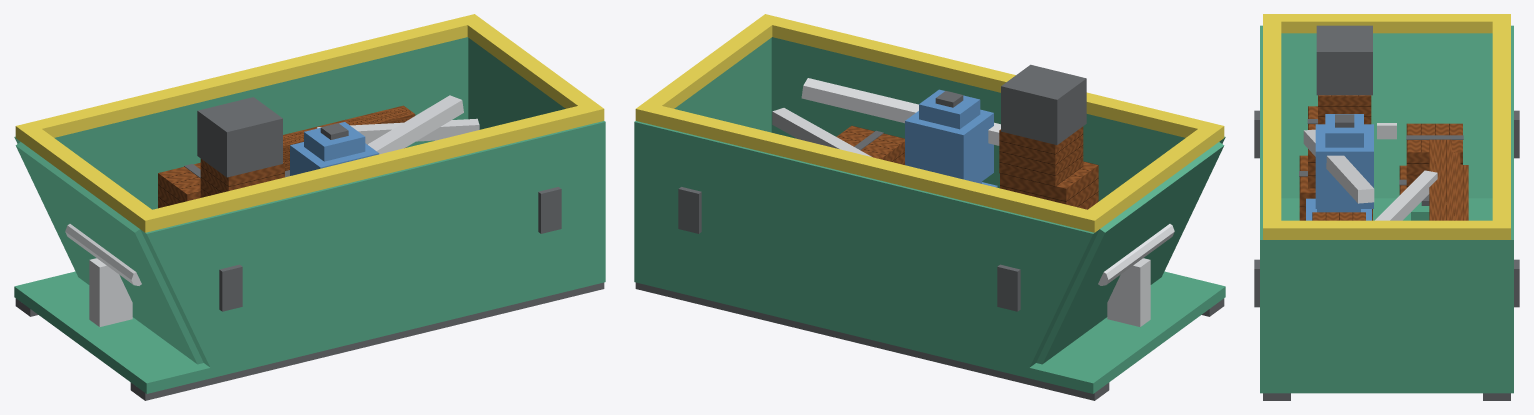
Rendered from recycling-and-waste-transfer-yard-recycling-and-waste--46317b01__34897.glb.
3 renders of one model, left to right at view 1: azimuth 30°, elevation 25°; view 2: azimuth 150°, elevation 25°; view 3: azimuth 270°, elevation 25°, orthographic. The views are drawn at different scales.
Parts seen in each view (by area): view 1: recycling-and-waste-transfer-yard-open-top-skip-loaded; view 2: recycling-and-waste-transfer-yard-open-top-skip-loaded; view 3: recycling-and-waste-transfer-yard-open-top-skip-loaded.
Boxes of the visible parts, bbox=[...] form: recycling-and-waste-transfer-yard-open-top-skip-loaded: bbox=[14, 14, 605, 400]; recycling-and-waste-transfer-yard-open-top-skip-loaded: bbox=[634, 14, 1225, 400]; recycling-and-waste-transfer-yard-open-top-skip-loaded: bbox=[1254, 14, 1519, 400].
Bounding box in the file's own units: 3.64 × 1.66 × 1.88.
Materials: 6 (1 with a texture image).
